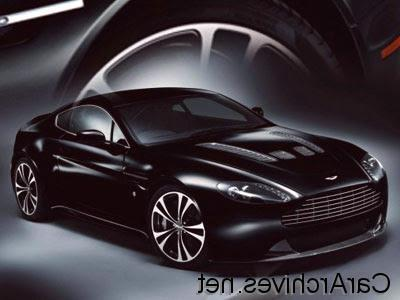Car: (2, 73, 399, 280)
